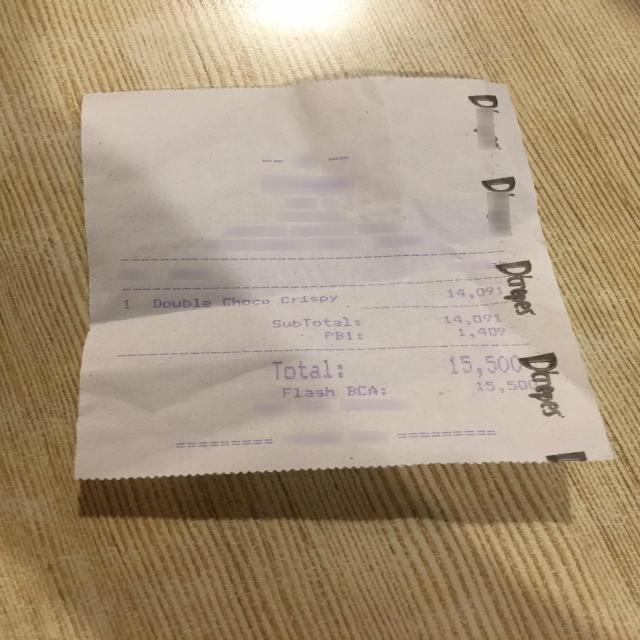kertas: (61, 68, 614, 480)
